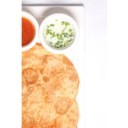poori: (16, 53, 78, 120), (20, 97, 80, 128)
